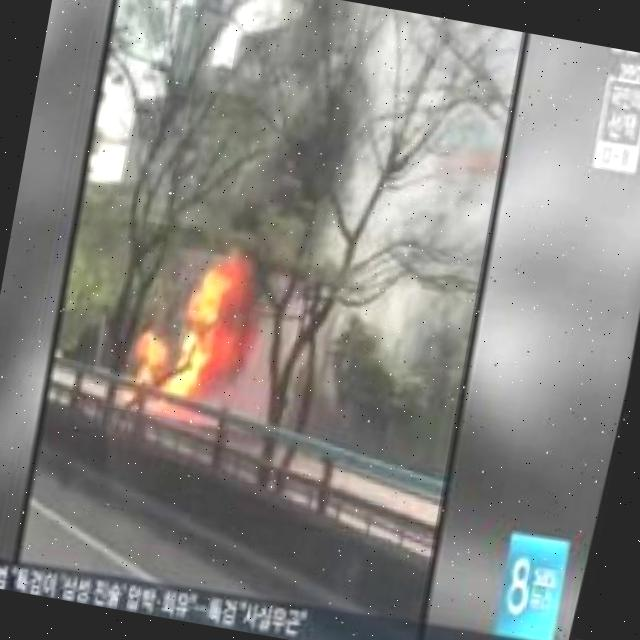fire: (155, 271, 265, 420), (129, 330, 167, 414)
